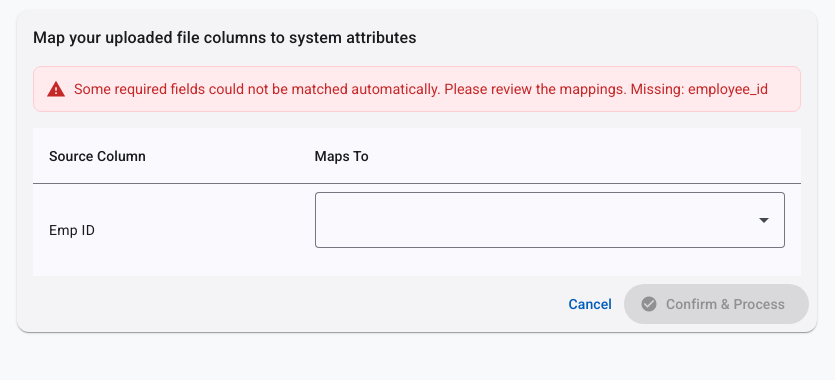
SharedMapperComponent › should display visual indicators for required fields
Click the dropdown. click: (764, 220)
box: [752,208,776,232]
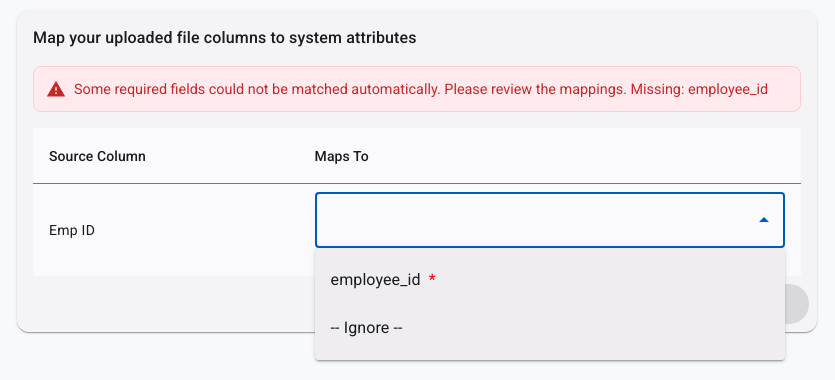
Check: the text "*" is shown, box [429,270,436,289]
